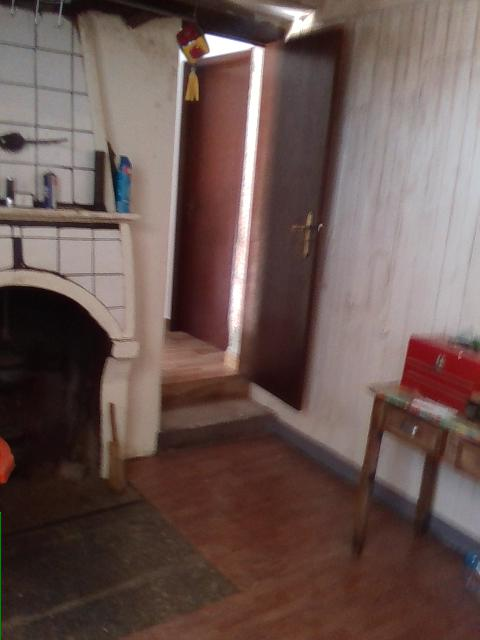door: (248, 20, 340, 407), (181, 60, 247, 348)
